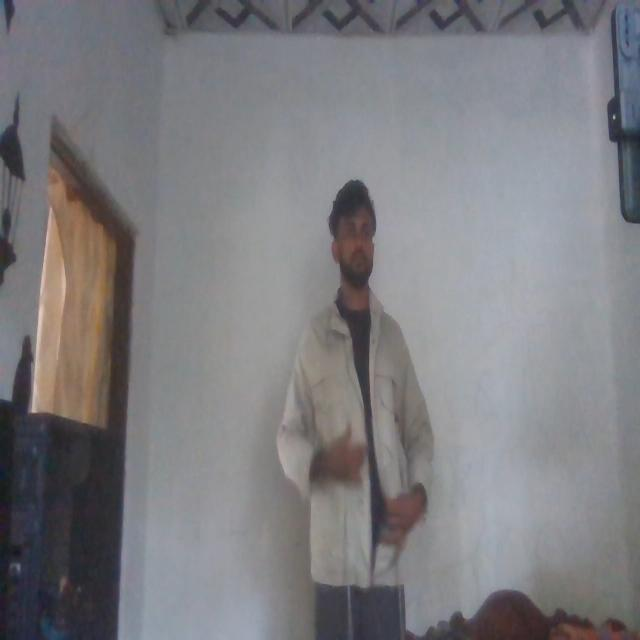Jacket_Wearer: (289, 284, 428, 582)
Person: (270, 183, 440, 640)
